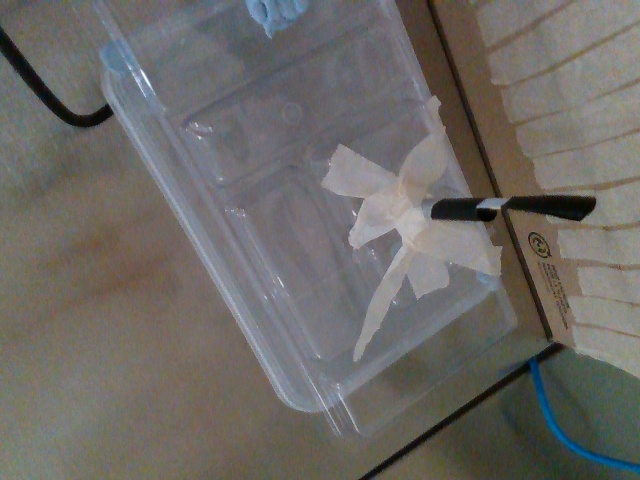test_strip: (476, 192, 594, 220)
